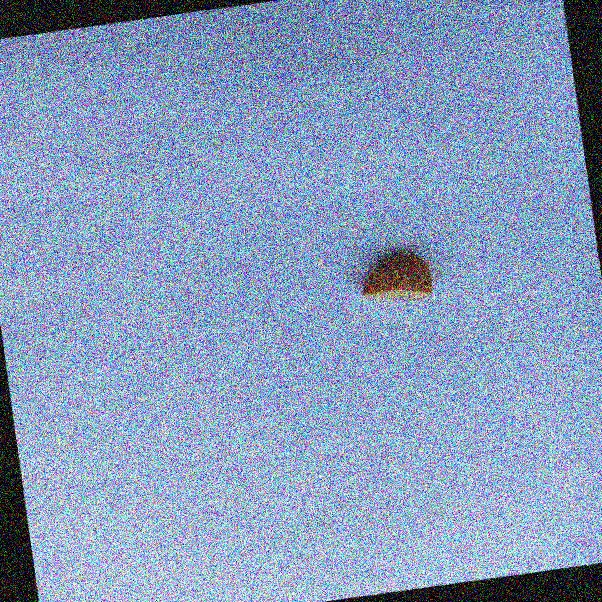grade4: (349, 243, 442, 313)
